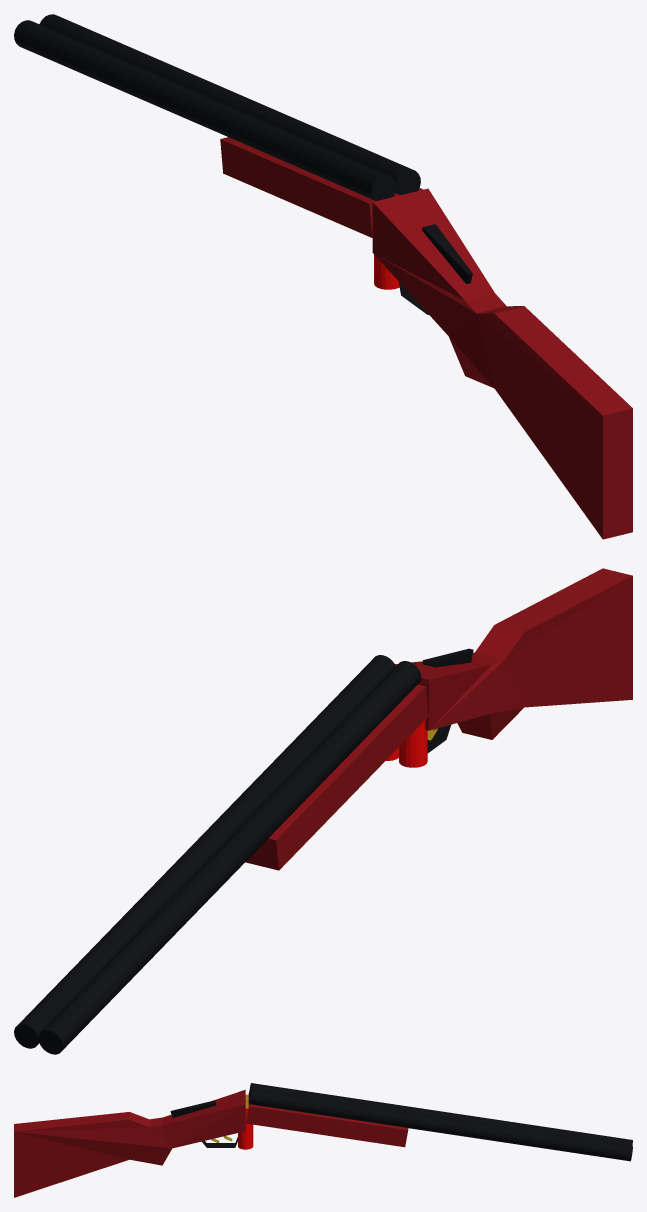
The model's file is double-barreled-shotgun0026.obj.
3 views of the same model, one above another, from view 1: azimuth 30°, elevation 25°; view 2: azimuth 150°, elevation 25°; view 3: azimuth 270°, elevation 25° (orthographic). The views are drawn at different scales.
Parts seen in each view (by area): view 1: rearStock, leftBarrel, rightBarrel, foreGrip, topLatch; view 2: rearStock, leftBarrel, rightBarrel, foreGrip, shellPlastic; view 3: rearStock, rightBarrel, foreGrip, leftBarrel, shellPlastic2, topLatch.
Boxes of the visible parts, box(x1,y1,x2,y2) form: rearStock: box(372, 188, 632, 539); leftBarrel: box(14, 20, 396, 200); rightBarrel: box(39, 14, 420, 194); foreGrip: box(220, 137, 422, 237); topLatch: box(422, 224, 472, 284); rearStock: box(395, 568, 632, 739); leftBarrel: box(38, 661, 421, 1054); rightBarrel: box(14, 655, 395, 1048); foreGrip: box(245, 684, 428, 870); shellPlastic: box(399, 720, 427, 767); rearStock: box(14, 1089, 245, 1197); rightBarrel: box(249, 1089, 632, 1161); foreGrip: box(246, 1092, 408, 1147); leftBarrel: box(249, 1083, 632, 1146); shellPlastic2: box(238, 1108, 253, 1149); topLatch: box(170, 1100, 215, 1117).
Size of the model in its own units: 0.2057 by 0.707 by 3.7.
